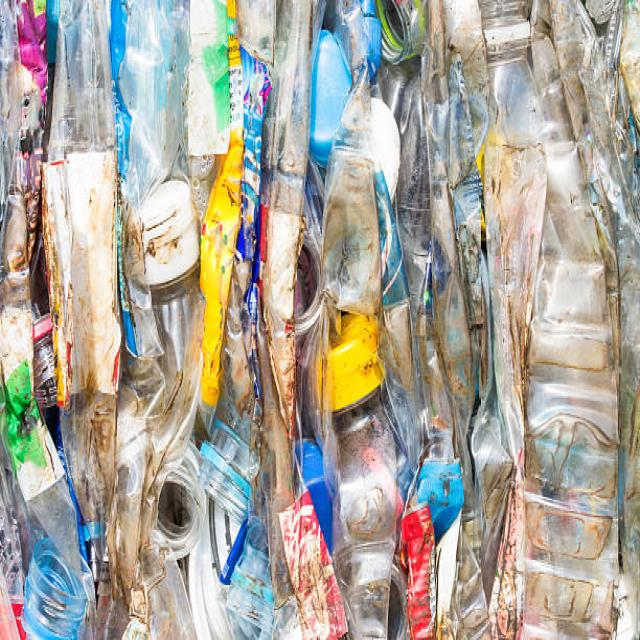plastic: (22, 33, 598, 632)
